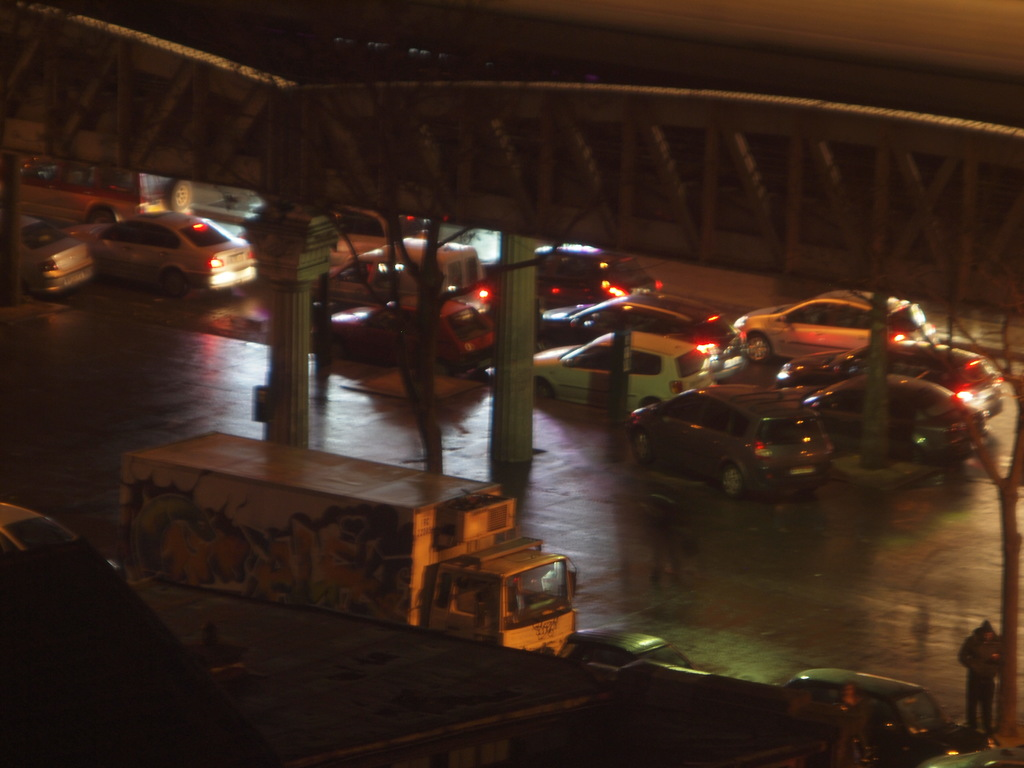Car: (12, 202, 1008, 497), (788, 666, 953, 767), (562, 625, 684, 675)
